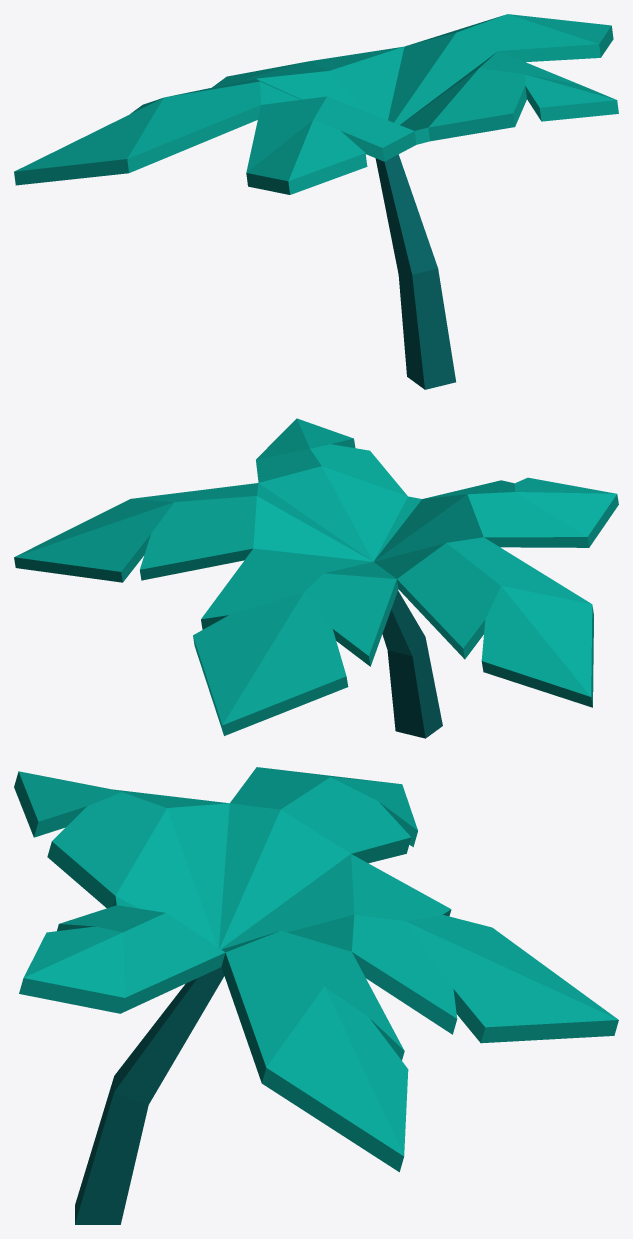
The model's file is Vegetation_10.glb.
3 views of the same model, one above another, from view 1: azimuth 30°, elevation 25°; view 2: azimuth 150°, elevation 25°; view 3: azimuth 270°, elevation 25° (orthographic). The views are drawn at different scales.
Visible parts, largest first — view 1: Vegetation_10; view 2: Vegetation_10; view 3: Vegetation_10.
Part boxes in pixels (x1,y1,x2,y2): Vegetation_10: (14, 14, 618, 389); Vegetation_10: (14, 418, 618, 738); Vegetation_10: (14, 767, 618, 1224).
Size of the model in its own units: 0.2556 by 0.1151 by 0.1757.
1 material, 1 textured.
